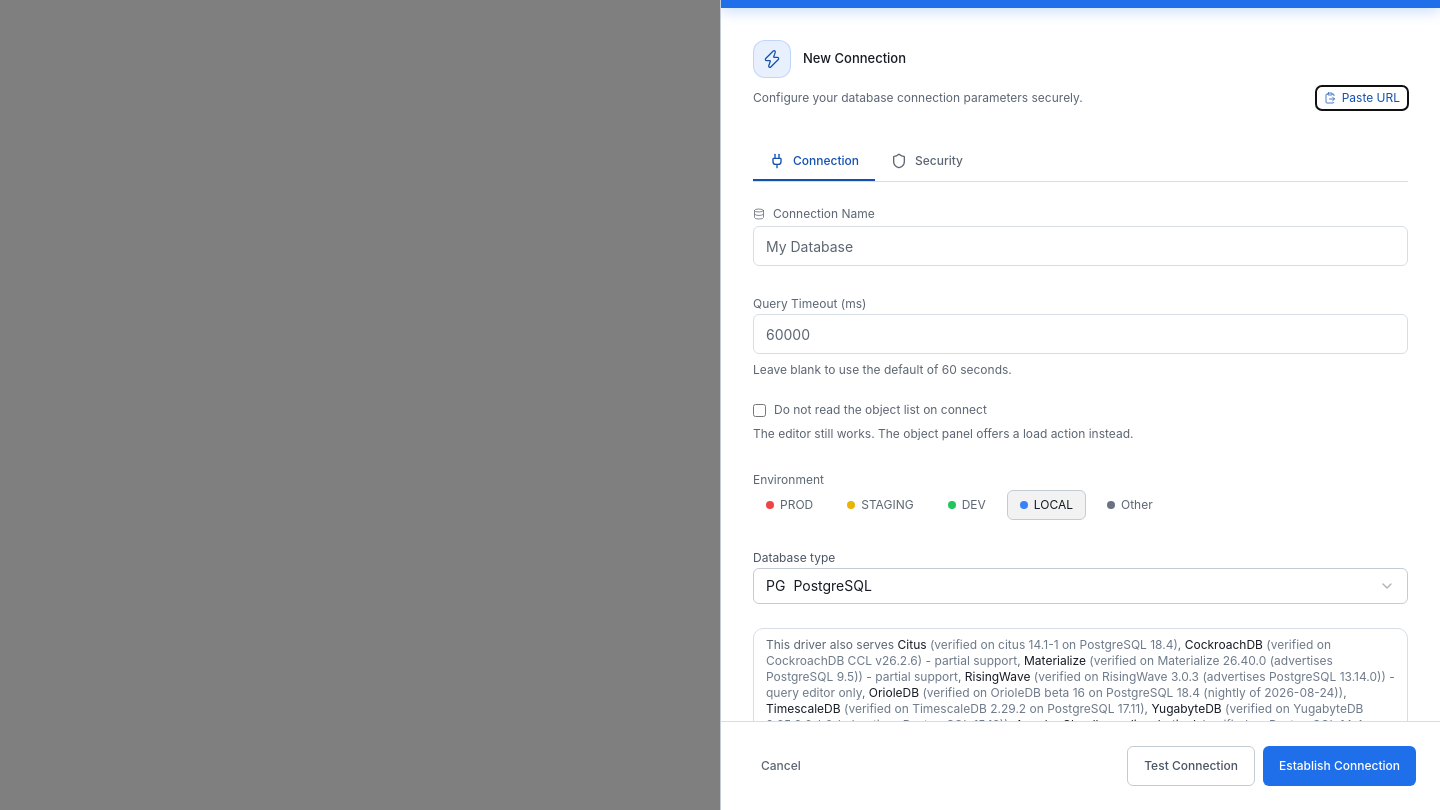
Test: ConnectionModal › a caller's security fields live on a Security tab beside the Connection tab
// Radix tabs switch on pointer down in happy-dom, not on click.
Press the mouse on the tab with test id "sheet-tab-security" at coordinates (927, 162), box [875,142,979,181]
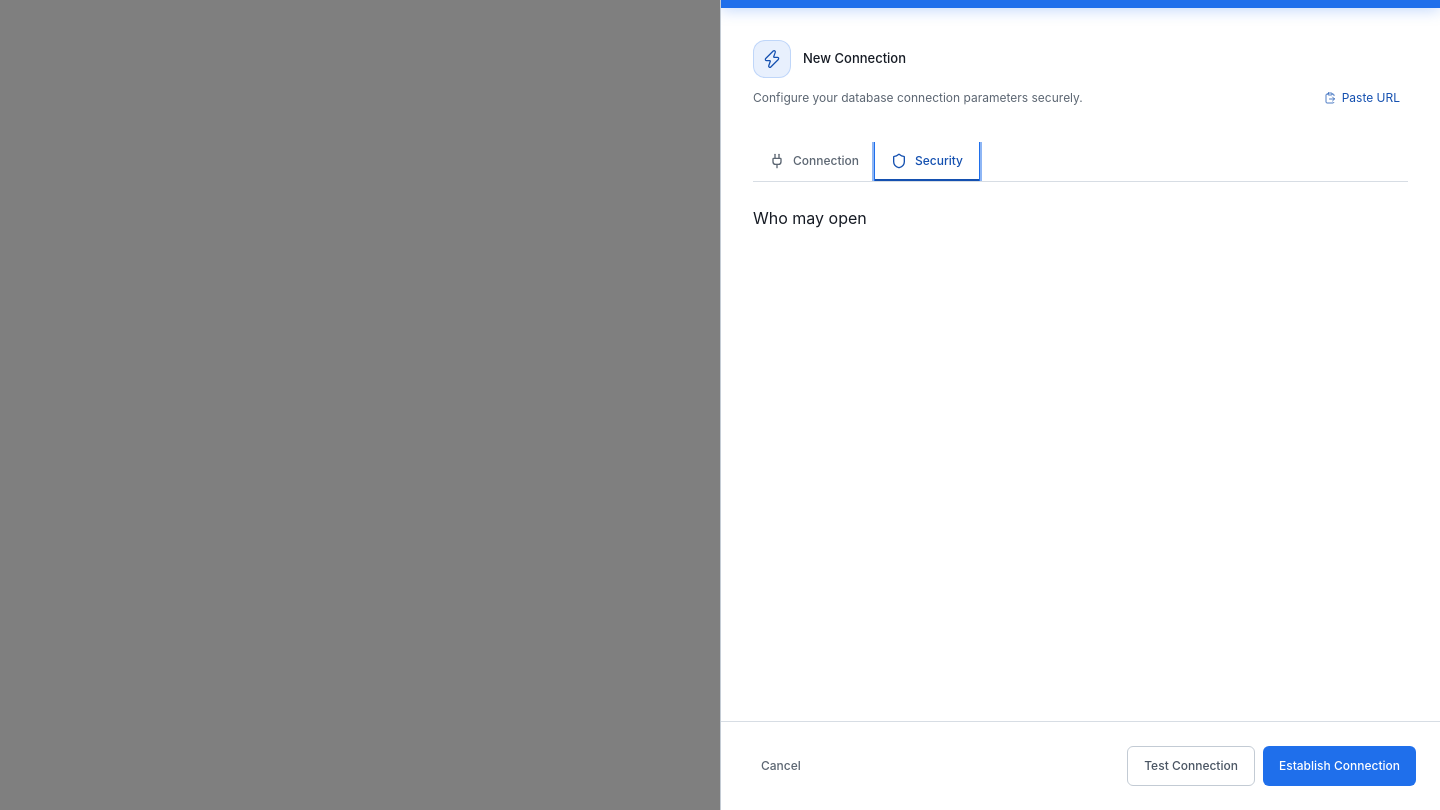
Expected: the text "Who may open" is shown, [753,208,867,228]
Press the mouse on the tab with test id "sheet-tab-connection" at coordinates (814, 162), box [753,142,875,181]
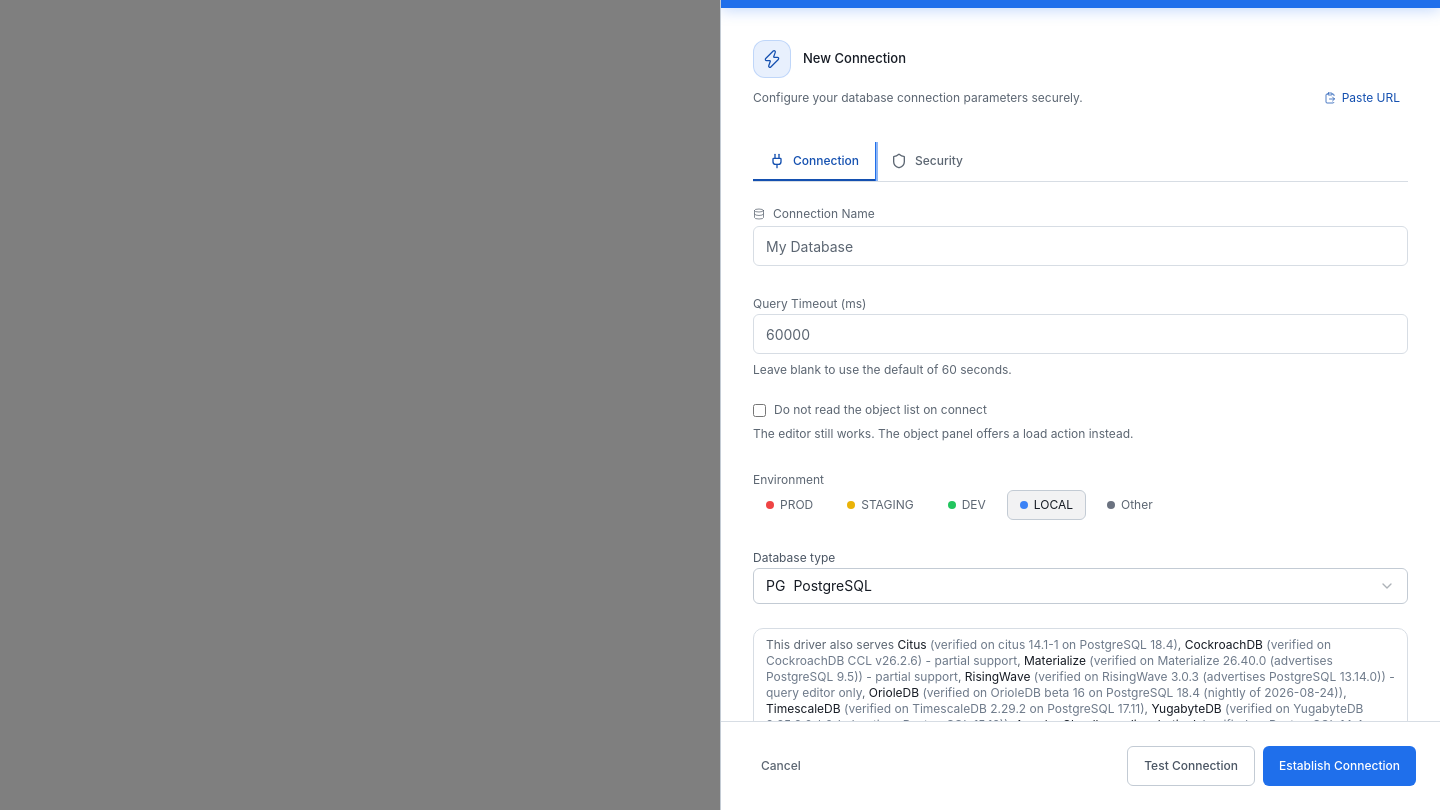
Expected: the text with test id "caller-security" is gone
